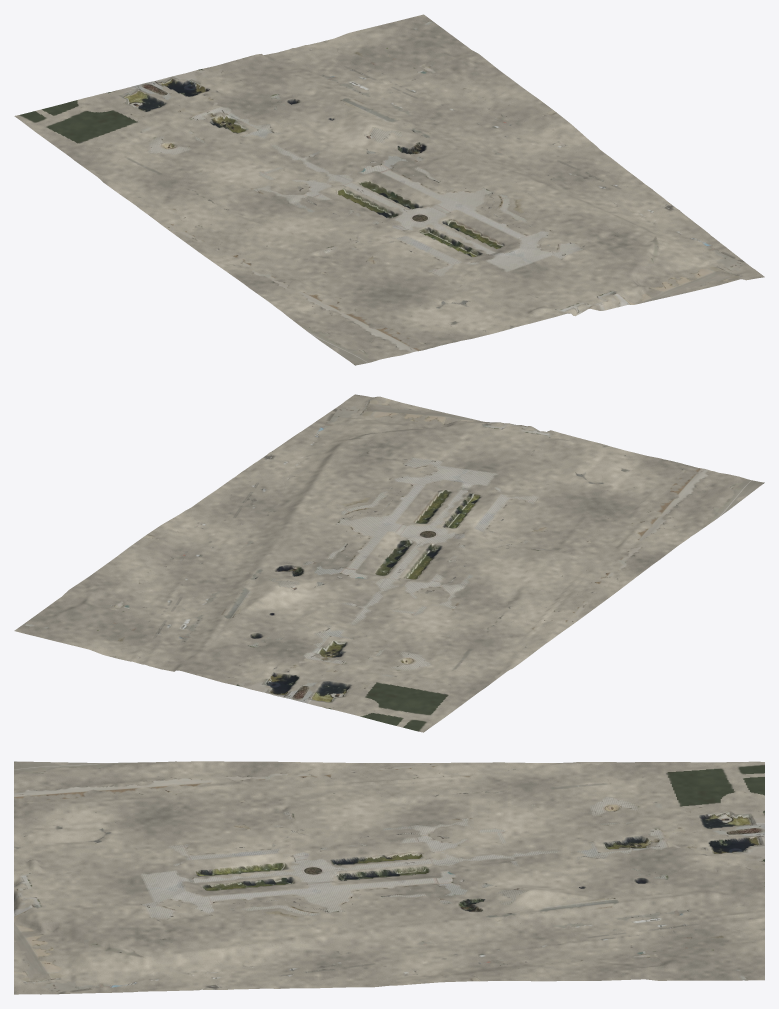
File: terreno_cecilio.glb
3 renders of one model, top to bottom at view 1: azimuth 30°, elevation 25°; view 2: azimuth 150°, elevation 25°; view 3: azimuth 270°, elevation 25°, orthographic. The views are drawn at different scales.
Parts seen in each view (by area): view 1: Web_Terreno_Cecilio; view 2: Web_Terreno_Cecilio; view 3: Web_Terreno_Cecilio.
Part boxes in pixels (bbox=[...]): Web_Terreno_Cecilio: bbox=[14, 14, 764, 365]; Web_Terreno_Cecilio: bbox=[14, 394, 764, 732]; Web_Terreno_Cecilio: bbox=[14, 761, 764, 994].
Size of the model in its own units: 197 by 8.17 by 284.
4 materials, 4 textured.
